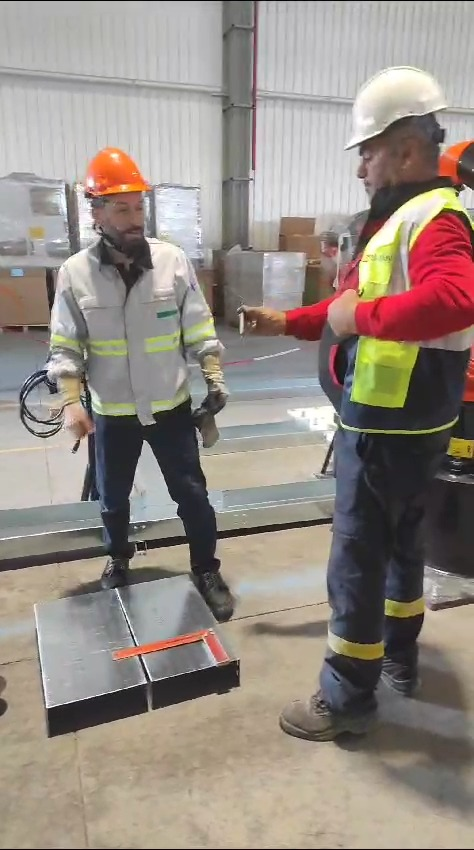safety_helmet: (342, 65, 449, 151), (83, 146, 153, 198), (437, 139, 473, 190)
